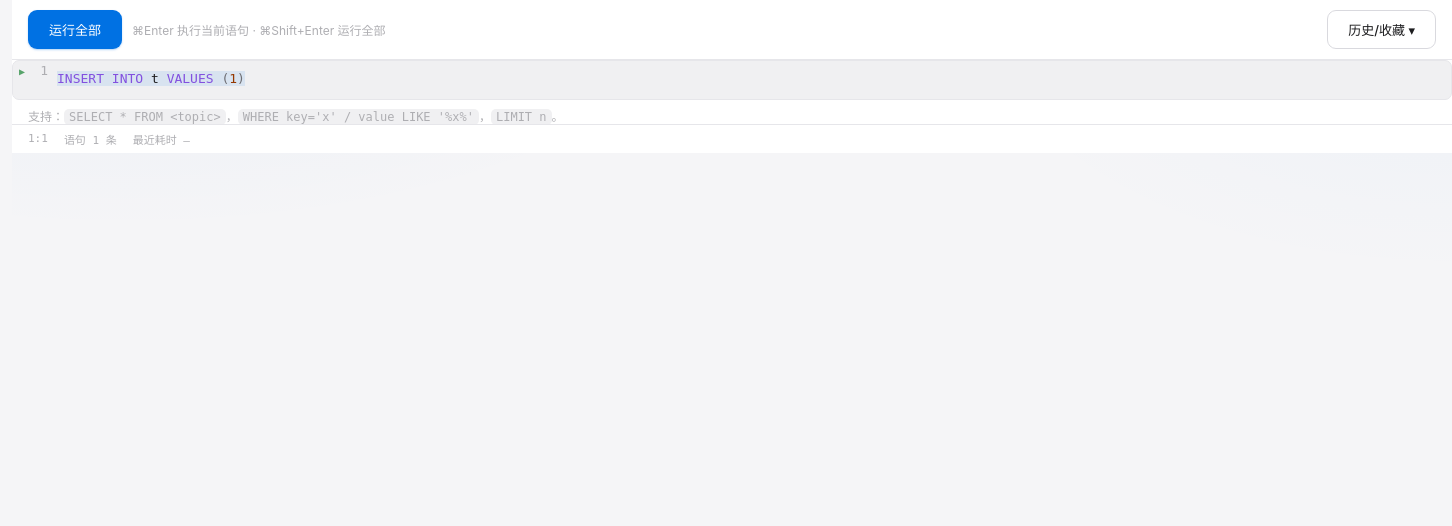
Test: SqlConsole › shows an error for invalid SQL
Click the button with test id "btn-run" at (75, 30), box [28,10,122,49]
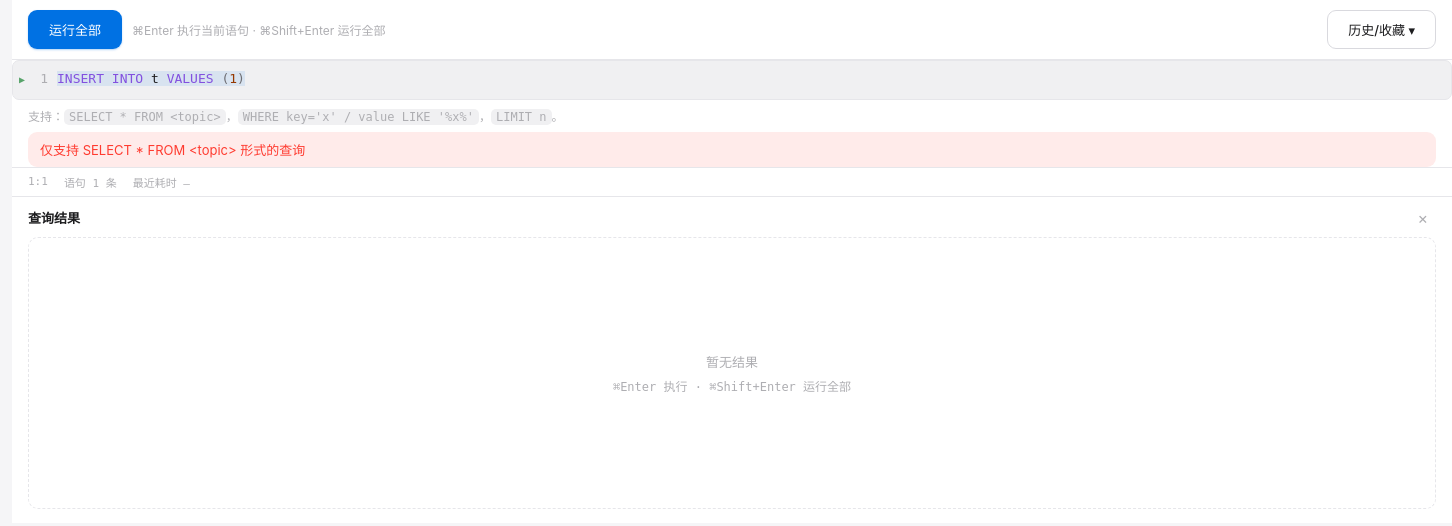
Now the text "仅支持 SELECT * FROM <topic> 形式的查询" is shown, box [28,132,1436,166]
